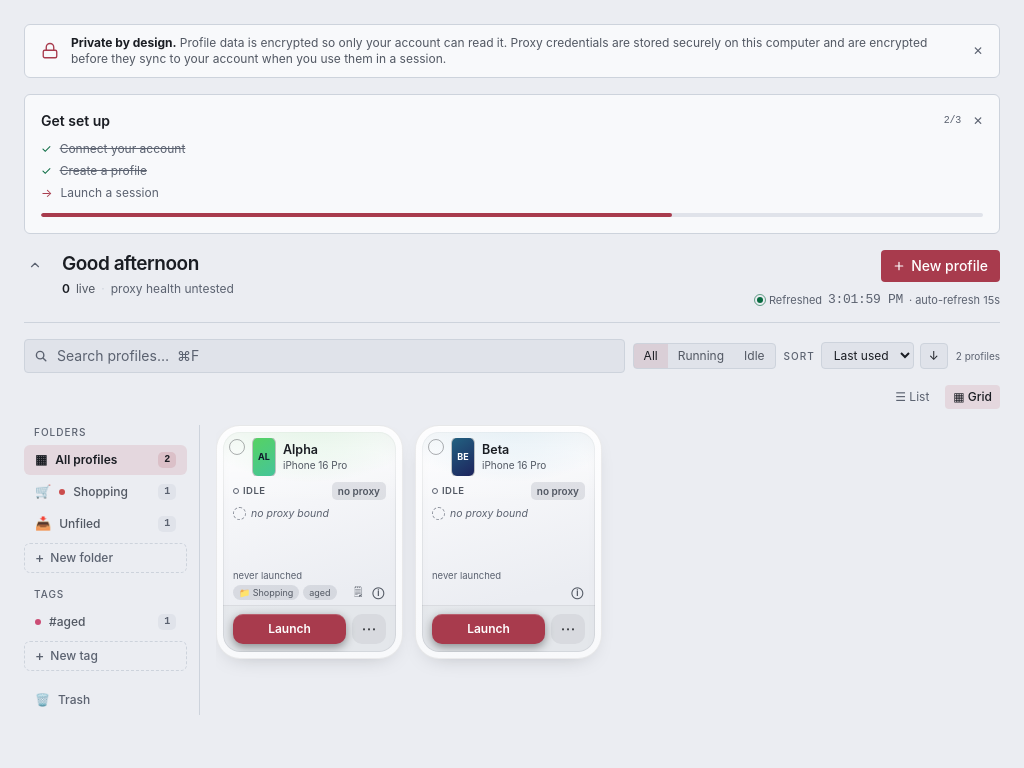
Test: ProfilesView search matches synced org metadata › matches by FOLDER name
Expected: the text "Alpha" is shown, [283,442,318,456]
Expected: the text "Beta" is shown, [482,442,509,456]
Type "shopping" into the search field labelled "Search profiles" at (324, 356), box [24,338,625,372]
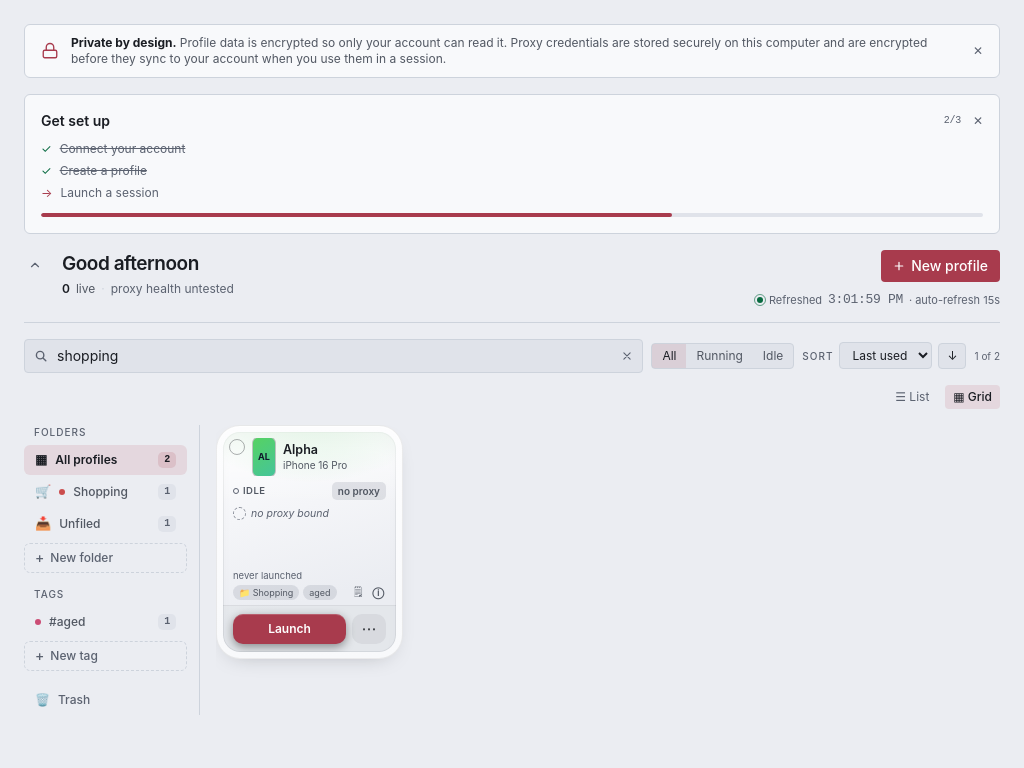
Expected: the text "Alpha" is shown, [283,442,318,456]
Expected: the button "Beta" is gone
